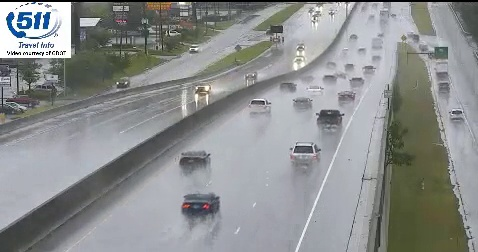car: (181, 192, 219, 215), (290, 143, 320, 165), (316, 110, 343, 131), (179, 151, 211, 168), (248, 99, 271, 116)
